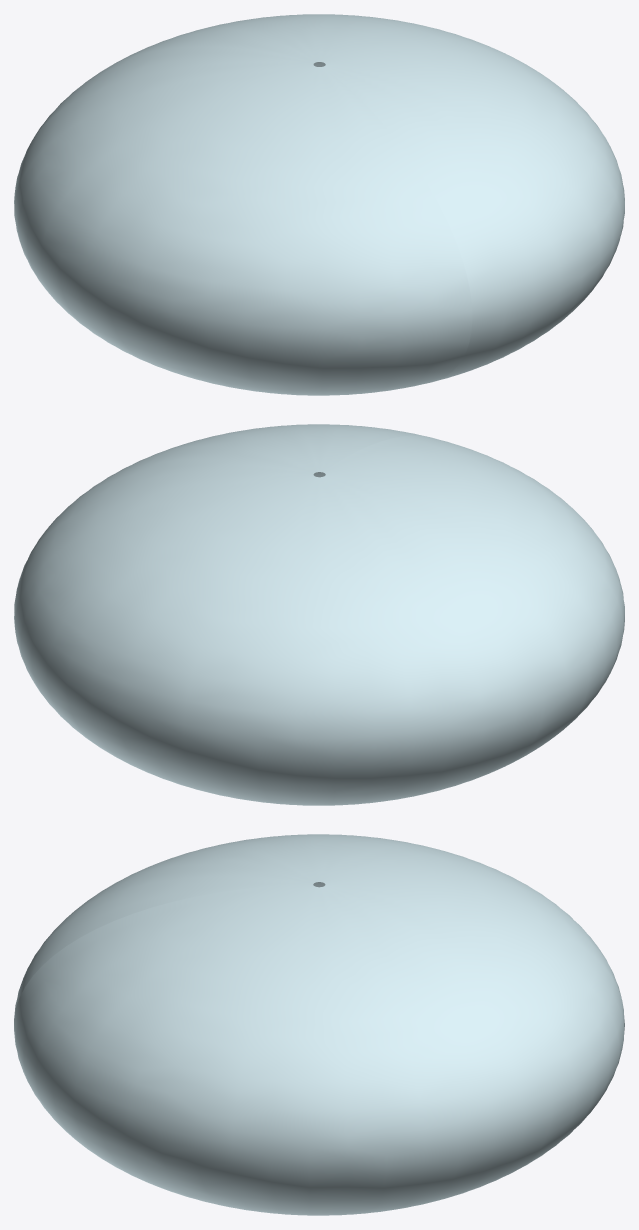
The model's file is stellarator.glb.
The picture shows the model from 3 angles, top to bottom: view 1: azimuth 30°, elevation 25°; view 2: azimuth 150°, elevation 25°; view 3: azimuth 270°, elevation 25°; orthographic projection.
Visible parts, largest first — view 1: Renderer Node; view 2: Renderer Node; view 3: Renderer Node.
Boxes of the visible parts, left/top/right/bottom form: Renderer Node: left=14, top=14, right=624, bottom=395; Renderer Node: left=14, top=424, right=624, bottom=805; Renderer Node: left=14, top=834, right=624, bottom=1215.
Bounding box in the file's own units: 12.98 × 6.58 × 12.98.
